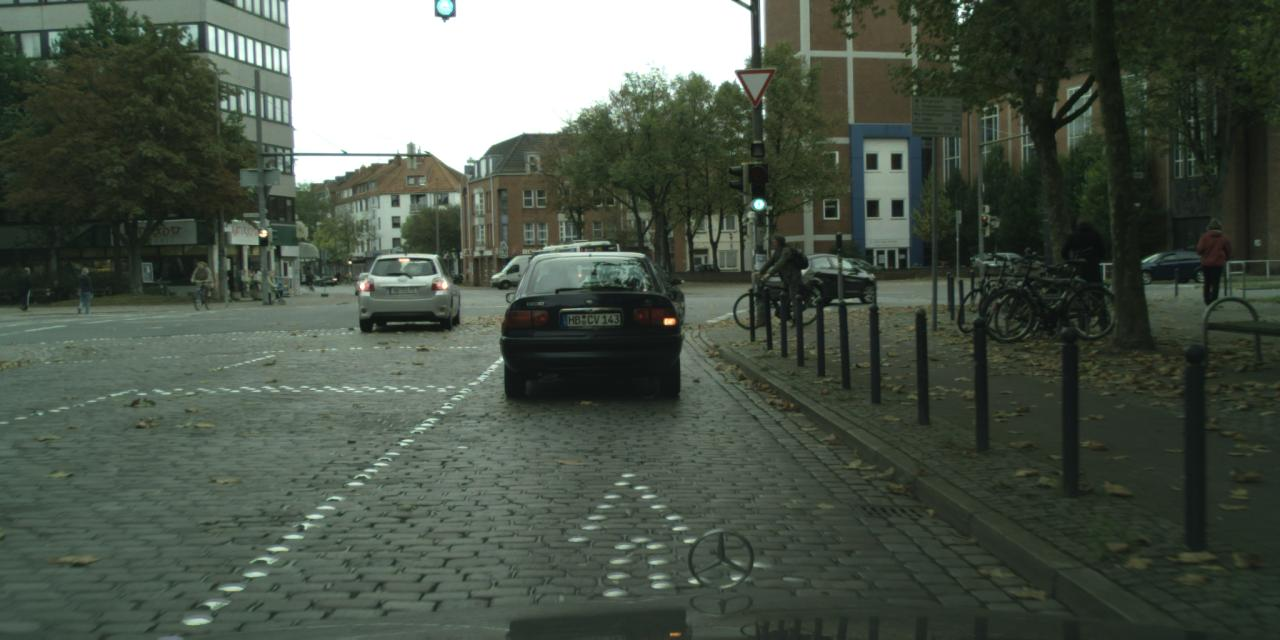ped: (1064, 215, 1111, 333), (763, 235, 800, 326), (1194, 218, 1230, 310), (74, 268, 92, 313), (17, 266, 34, 311), (195, 262, 210, 298), (262, 270, 275, 304), (306, 270, 313, 288), (336, 271, 340, 280)
